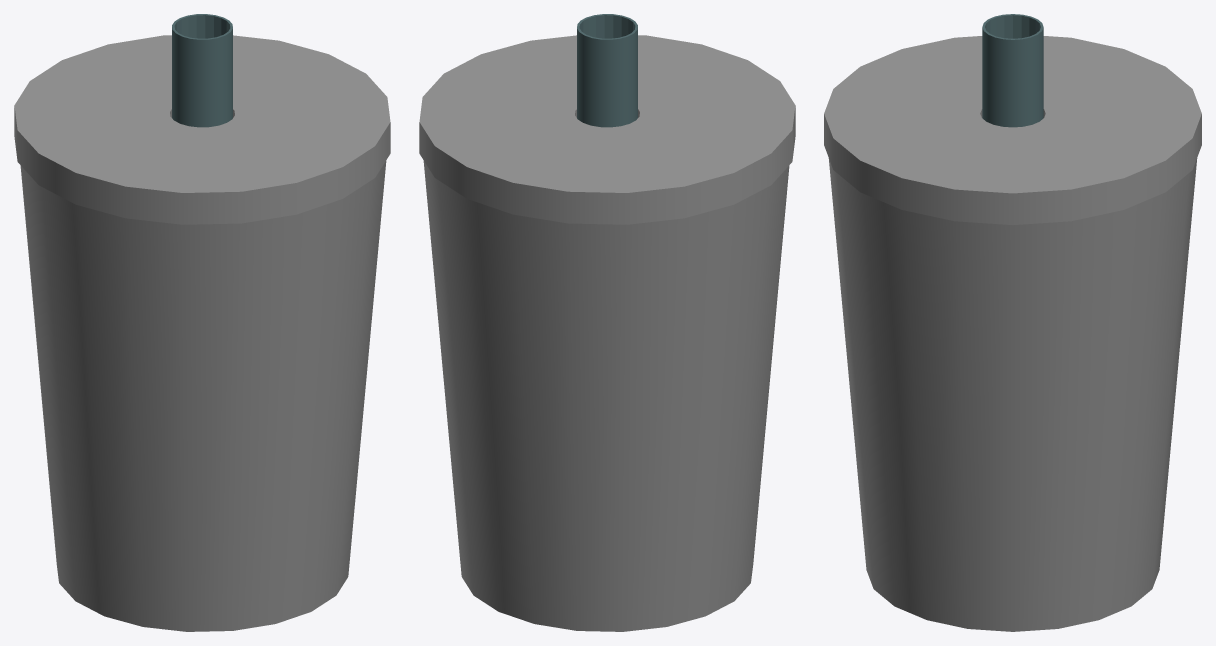
The model's file is BBT.fbx.
3 renders of one model, left to right at view 1: azimuth 30°, elevation 25°; view 2: azimuth 150°, elevation 25°; view 3: azimuth 270°, elevation 25°, orthographic.
Parts seen in each view (by area): view 1: polySurface1, polySurface2, pCylinder3; view 2: polySurface1, polySurface2, pCylinder3; view 3: polySurface1, polySurface2, pCylinder3.
Part boxes in pixels (x1,y1,x2,y2): polySurface1: (20,161,386,631); polySurface2: (14,35,390,224); pCylinder3: (172,14,232,127); polySurface1: (423,161,789,631); polySurface2: (419,35,795,224); pCylinder3: (577,14,637,127); polySurface1: (828,158,1197,631); polySurface2: (824,36,1201,224); pCylinder3: (982,14,1043,127).
Bounding box in the file's own units: 10.8 × 17.13 × 10.8.
